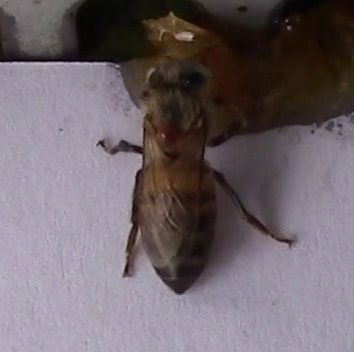Varroa destructor: (156, 124, 182, 145)
